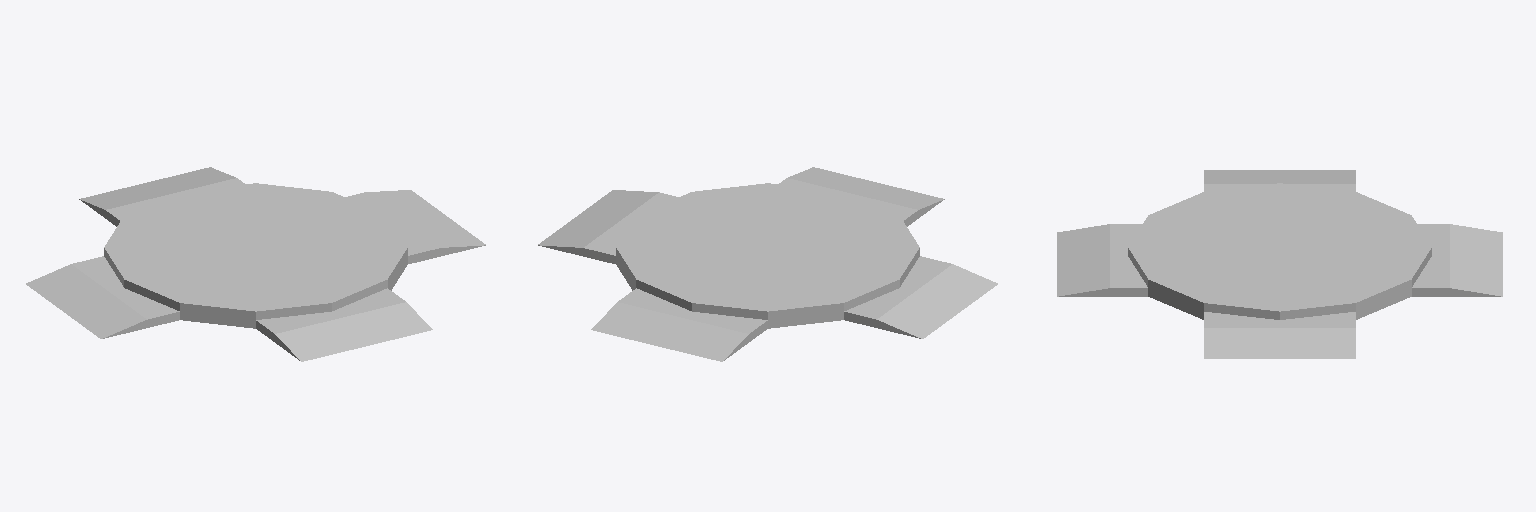
The model's file is railgun_base.obj.
3 renders of one model, left to right at view 1: azimuth 30°, elevation 25°; view 2: azimuth 150°, elevation 25°; view 3: azimuth 270°, elevation 25°, orthographic.
Parts seen in each view (by area): view 1: Cylinder; view 2: Cylinder; view 3: Cylinder.
Part boxes in pixels (bbox=[...]): Cylinder: bbox=[26, 167, 485, 361]; Cylinder: bbox=[538, 167, 997, 361]; Cylinder: bbox=[1057, 170, 1502, 358].
Size of the model in its own units: 2.93 by 0.125 by 2.93.